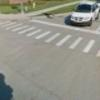crosswalks: (0, 19, 100, 57)
